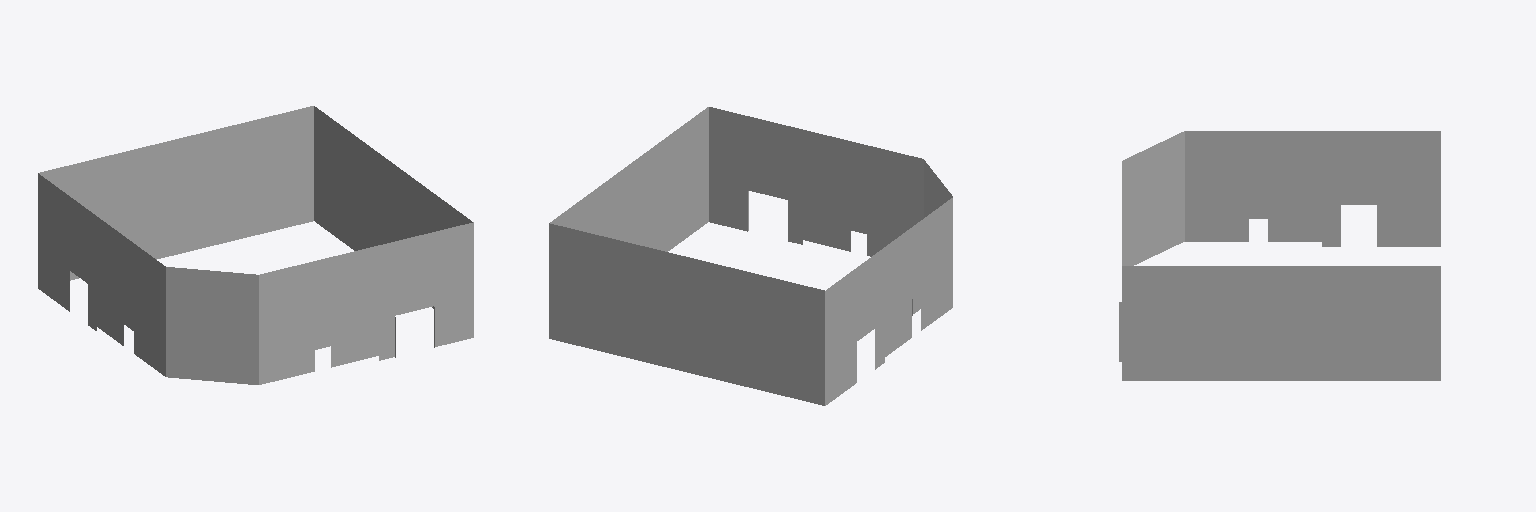
File: BallroomWalls.obj
3 renders of one model, left to right at view 1: azimuth 30°, elevation 25°; view 2: azimuth 150°, elevation 25°; view 3: azimuth 270°, elevation 25°, orthographic.
Parts seen in each view (by area): view 1: Plane.000_Plane.020; view 2: Plane.000_Plane.020; view 3: Plane.000_Plane.020.
Part boxes in pixels (bbox=[...]): Plane.000_Plane.020: bbox=[38, 106, 473, 384]; Plane.000_Plane.020: bbox=[549, 107, 952, 405]; Plane.000_Plane.020: bbox=[1119, 131, 1440, 380].
Bounding box in the file's own units: 35.09 × 14 × 35.28.